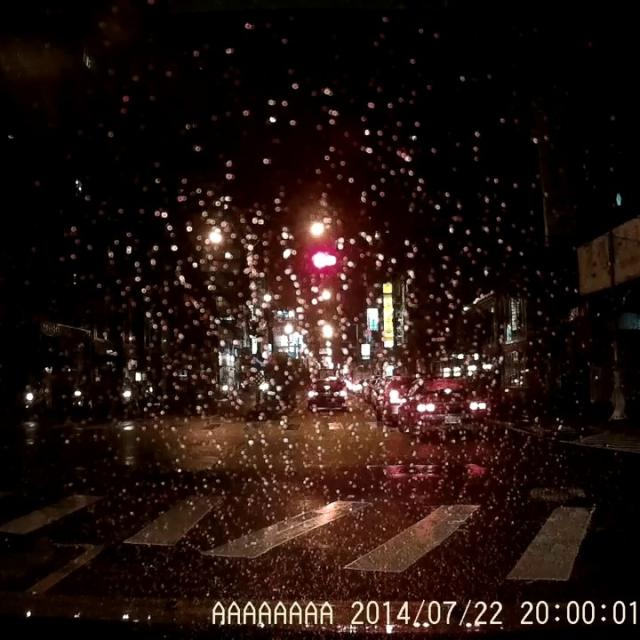Car: (395, 374, 488, 435), (374, 378, 411, 425), (304, 377, 347, 412)
